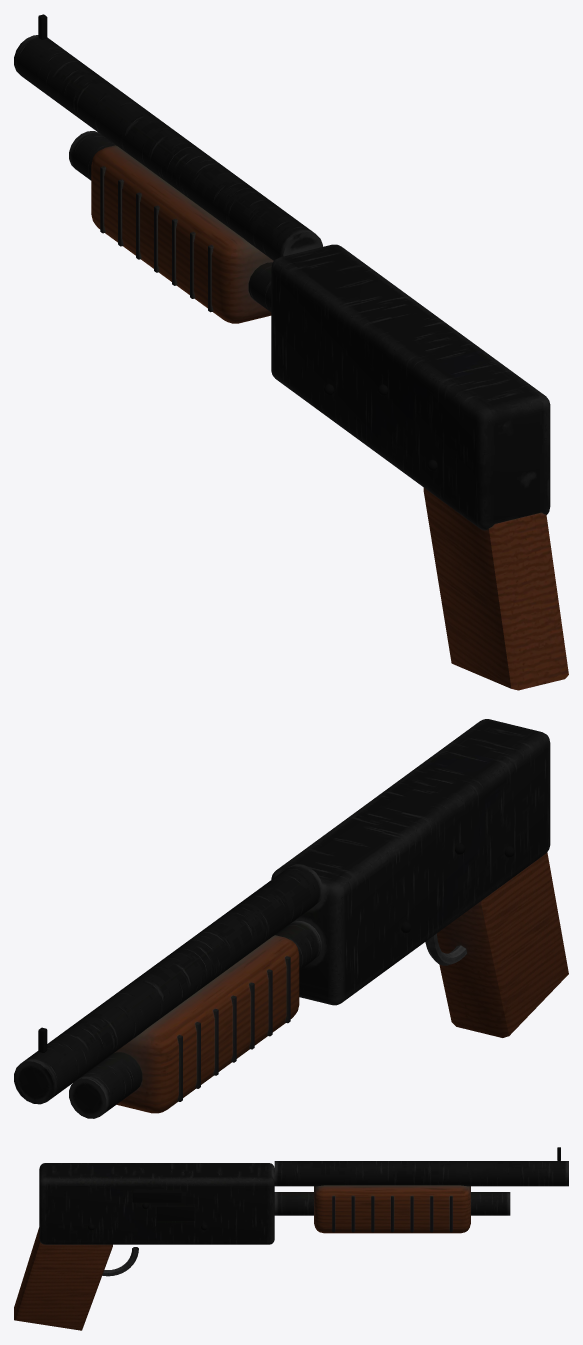
Rendered from sawedoff.glb.
3 renders of one model, top to bottom at view 1: azimuth 30°, elevation 25°; view 2: azimuth 150°, elevation 25°; view 3: azimuth 270°, elevation 25°, orthographic. The views are drawn at different scales.
Visible parts, largest first — view 1: body_receiver, body_furniture, pump_furniture, pump_metal; view 2: body_receiver, body_furniture, pump_furniture, pump_metal, body_metal; view 3: body_receiver, pump_furniture, body_furniture, body_metal, pump_metal.
Boxes of the visible parts, <box> form: body_receiver: <box>14,35,550,530</box>; body_furniture: <box>423,488,568,690</box>; pump_furniture: <box>91,145,273,323</box>; pump_metal: <box>100,166,213,312</box>; body_receiver: <box>14,719,550,1118</box>; body_furniture: <box>437,852,568,1037</box>; pump_furniture: <box>114,935,299,1113</box>; pump_metal: <box>177,956,290,1101</box>; body_metal: <box>38,843,514,1052</box>; body_receiver: <box>39,1161,568,1276</box>; pump_furniture: <box>314,1185,470,1233</box>; body_furniture: <box>14,1227,112,1330</box>; body_metal: <box>88,1147,560,1230</box>; pump_metal: <box>332,1196,452,1232</box>.
Size of the model in its own units: 0.0552 by 0.1986 by 0.566.
Materials: 5 (5 with a texture image).
